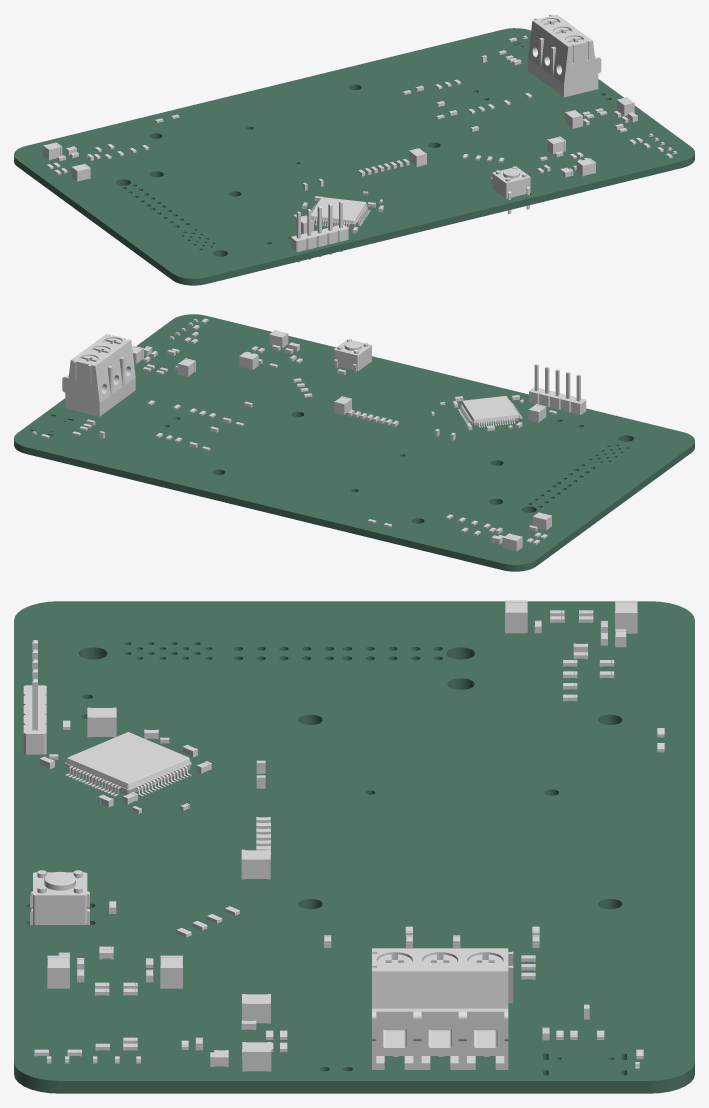
The model's file is nautilus_mainboard-3D.glb.
3 views of the same model, one above another, from view 1: azimuth 30°, elevation 25°; view 2: azimuth 150°, elevation 25°; view 3: azimuth 270°, elevation 25° (orthographic). The views are drawn at different scales.
Visible parts, largest first — view 1: =>[0:1:1:13], J5, J4, IC1, SW1; view 2: =>[0:1:1:13], J5, J4, IC1, SW1; view 3: =>[0:1:1:13], J5, IC1, SW1, J4, C29, C47, C16, C28, C35, C36, C21.
Part boxes in pixels (x1,y1,x2,y2): =>[0:1:1:13]: (14, 28, 694, 285); J5: (528, 14, 601, 97); J4: (291, 201, 348, 262); IC1: (311, 197, 370, 228); SW1: (492, 166, 530, 214); =>[0:1:1:13]: (14, 314, 694, 571); J5: (62, 334, 135, 416); J4: (529, 364, 586, 414); IC1: (457, 396, 522, 427); SW1: (334, 338, 371, 372); =>[0:1:1:13]: (14, 601, 694, 1093); J5: (372, 948, 513, 1069); IC1: (65, 732, 191, 796); SW1: (30, 870, 89, 924); J4: (23, 640, 46, 754); C29: (242, 1042, 271, 1071); C47: (241, 849, 270, 879); C16: (87, 707, 116, 737); C28: (242, 994, 270, 1023); C35: (160, 955, 182, 988); C36: (47, 955, 69, 988); C21: (505, 600, 527, 633).
Bounding box in the file's own units: 0.125 × 0.015 × 0.075.
